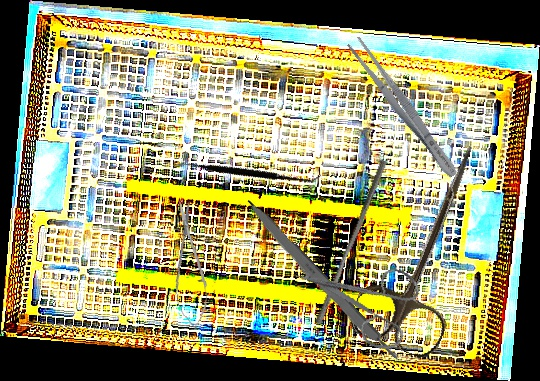Dressing Forceps: (344, 34, 463, 182)
Iris Scissors: (345, 128, 510, 363), (290, 235, 433, 370)
Micro Scissor: (167, 197, 212, 332)
Pusher: (314, 156, 388, 328)
Scalpel Handle: (241, 196, 401, 367)
Spatula Surgical: (171, 108, 323, 235)
